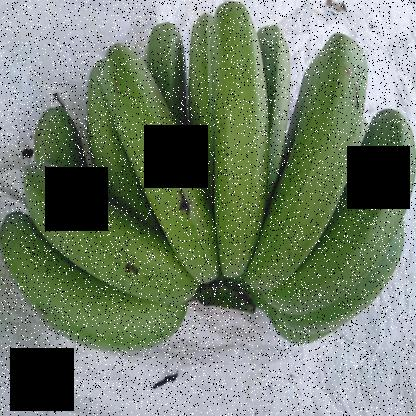unripe: (234, 18, 373, 295), (92, 38, 224, 300), (273, 100, 415, 311), (13, 156, 207, 307), (0, 205, 188, 359), (193, 0, 272, 287)
